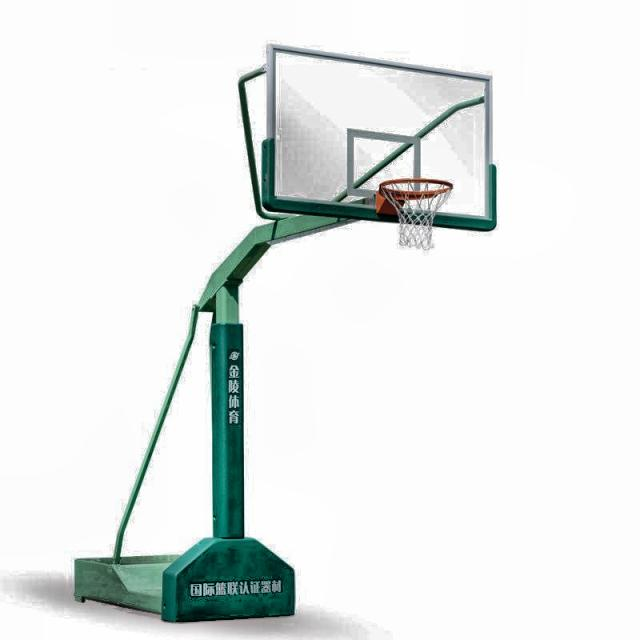rim: (380, 177, 454, 249)
